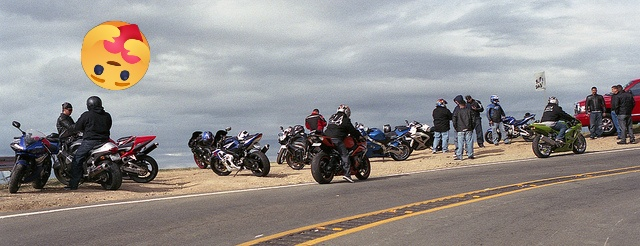care: (81, 21, 150, 90)
